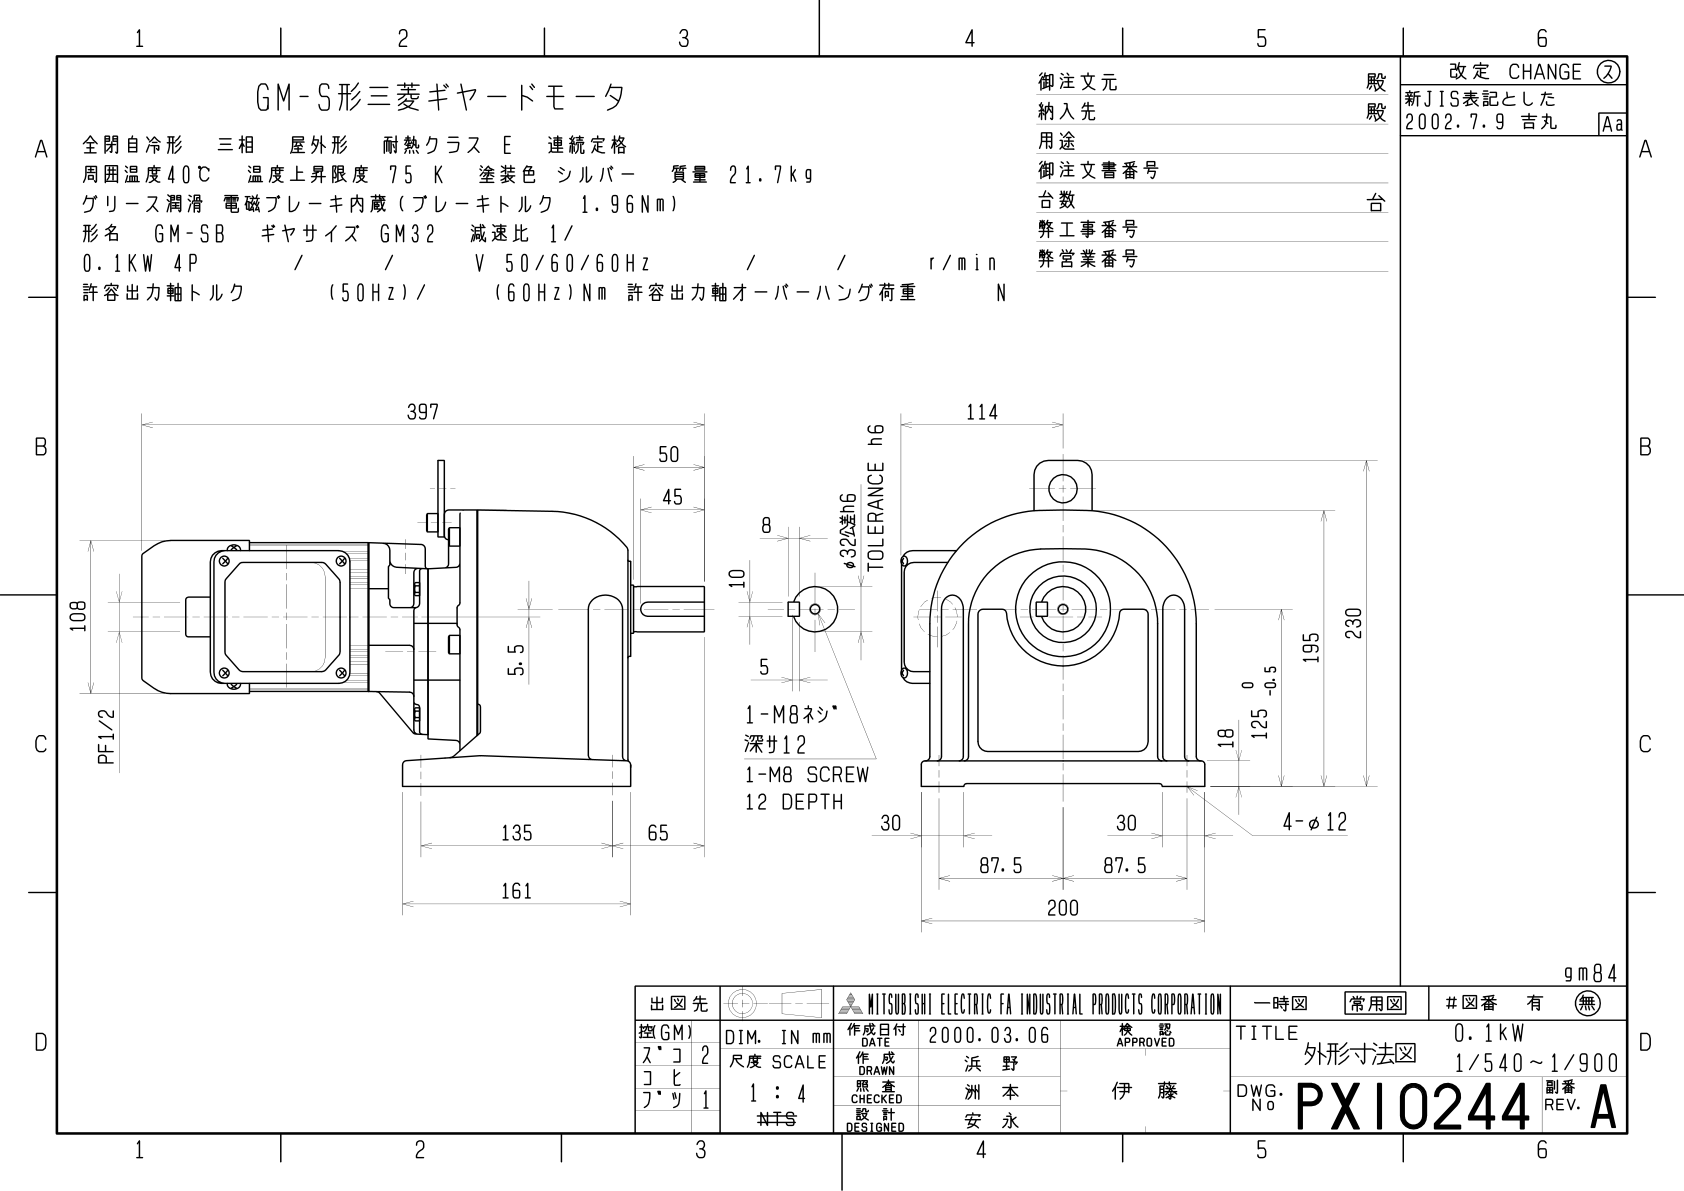GM_S_屋外＿三相_脚: (63, 375, 1383, 959)
